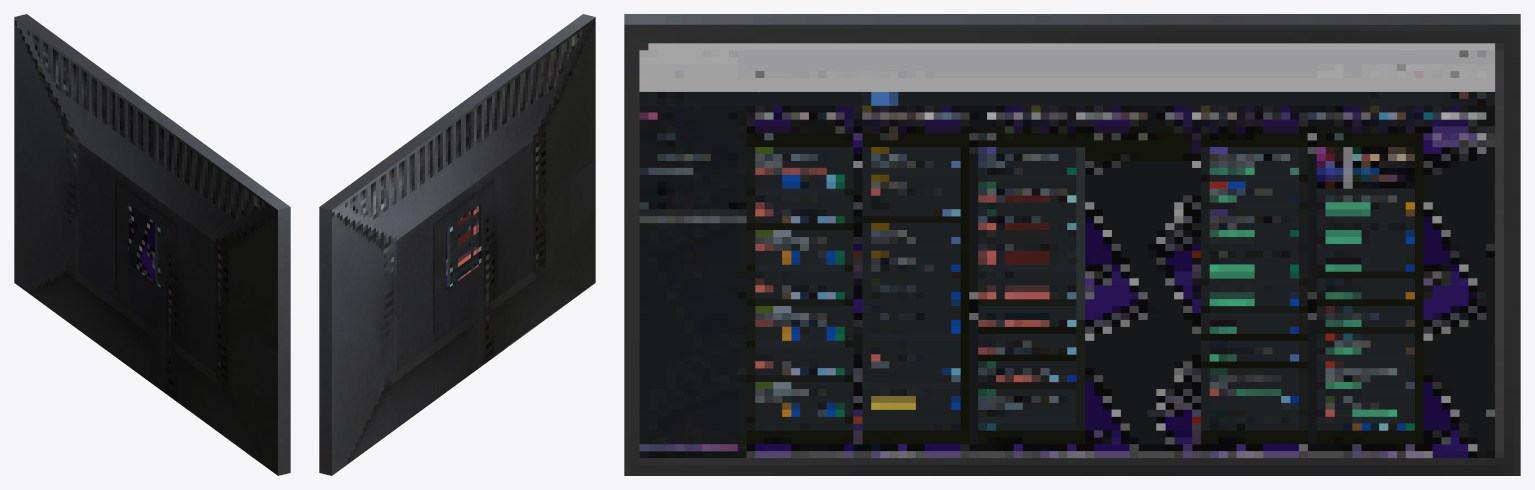
File: monitorOnly.fbx
3 renders of one model, left to right at view 1: azimuth 30°, elevation 25°; view 2: azimuth 150°, elevation 25°; view 3: azimuth 270°, elevation 25°, orthographic. The views are drawn at different scales.
Visible parts, largest first — view 1: computerMonitor.005; view 2: computerMonitor.005; view 3: computerMonitor.005.
Part boxes in pixels (x1,y1,x2,y2): computerMonitor.005: [14, 14, 290, 475]; computerMonitor.005: [319, 14, 595, 475]; computerMonitor.005: [624, 14, 1520, 475].
Bounding box in the file's own units: 2 × 40 × 72.
